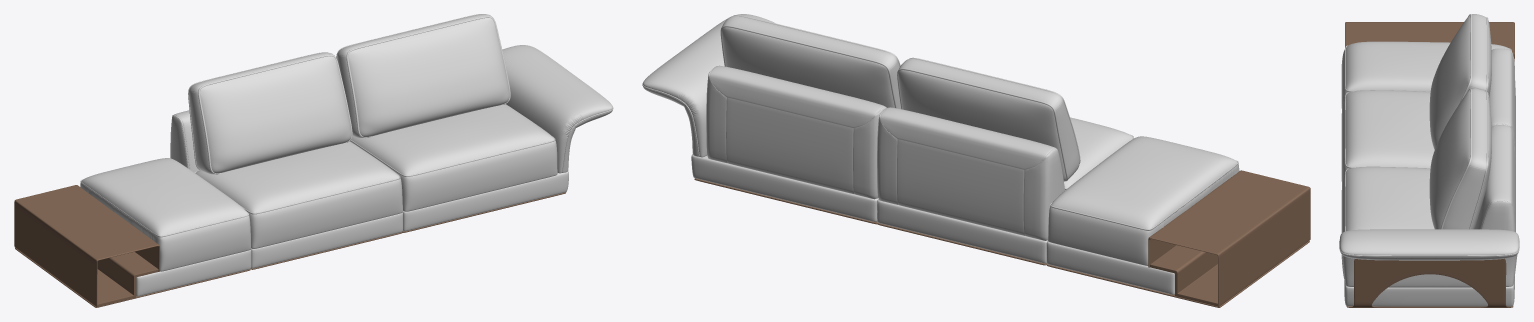
The model's file is St_Hilker_DORTMUND_ROMA.glb.
3 renders of one model, left to right at view 1: azimuth 30°, elevation 25°; view 2: azimuth 150°, elevation 25°; view 3: azimuth 270°, elevation 25°, orthographic. The views are drawn at different scales.
Parts seen in each view (by area): view 1: DORTMUND__ROMA; view 2: DORTMUND__ROMA; view 3: DORTMUND__ROMA.
Boxes of the visible parts, x1,y1,x2,y2 form: DORTMUND__ROMA: (14,14,613,307); DORTMUND__ROMA: (642,14,1310,307); DORTMUND__ROMA: (1339,14,1519,307).
Bounding box in the file's own units: 3.42 × 0.8974 × 0.9991.
